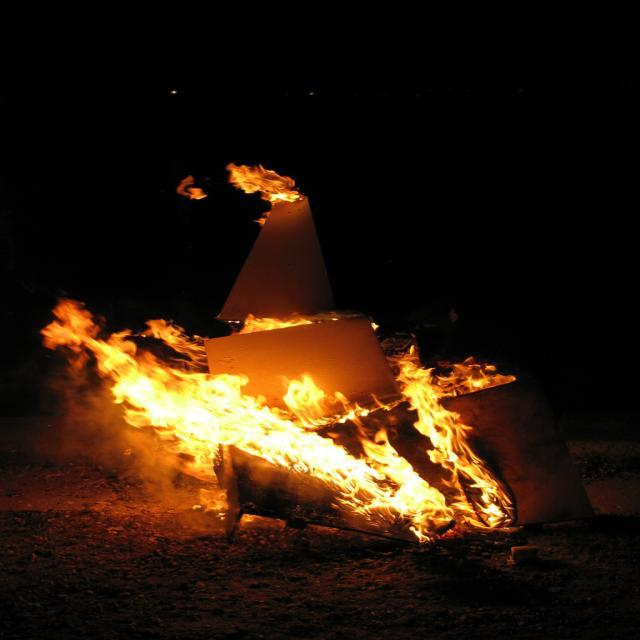Fire: (140, 372, 282, 441), (329, 442, 454, 511), (398, 350, 486, 431)
